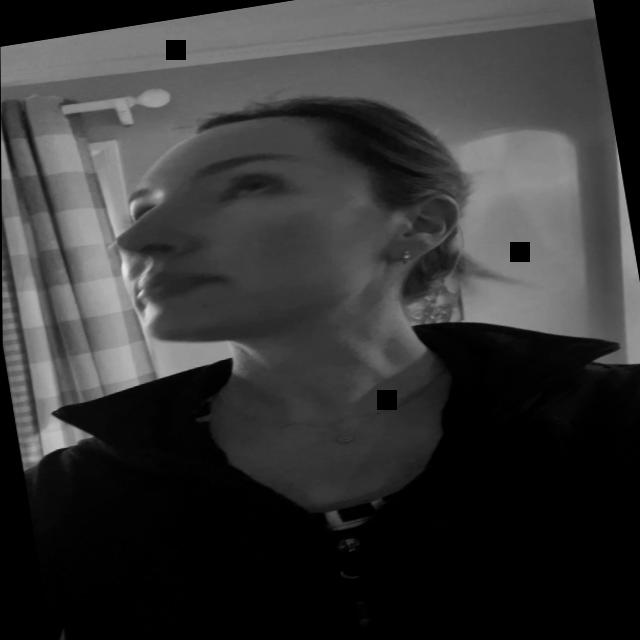NO-Mask: (102, 83, 489, 390)
